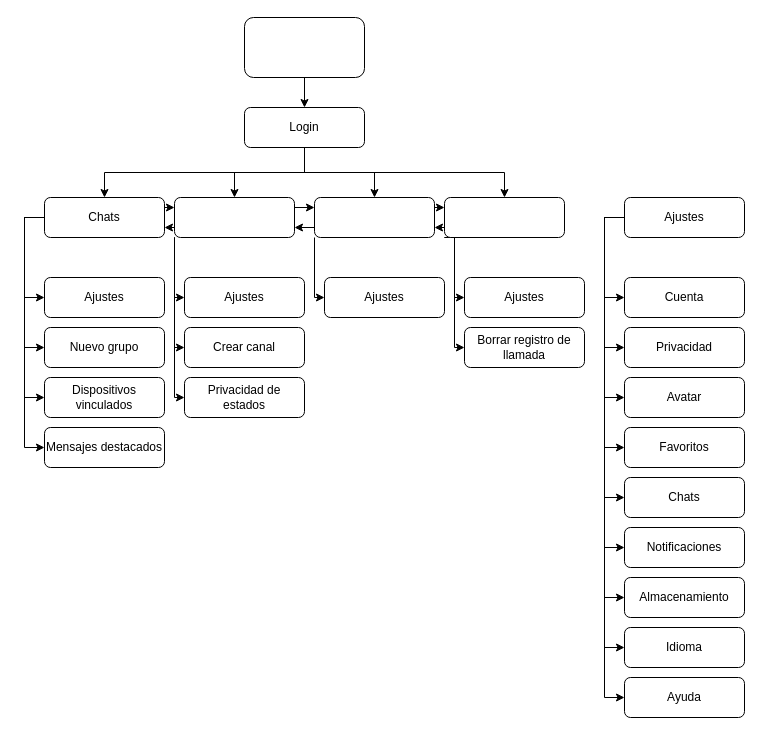
The diagram is 762 pixels wide and 735 high, and some of its shapes have lost their labels. Each missing label, with the box of its shape:
Comunidades: (314, 196, 434, 238)
Llamadas: (444, 196, 564, 238)
Novedades: (174, 196, 294, 238)
Whatsapp: (244, 16, 364, 78)
